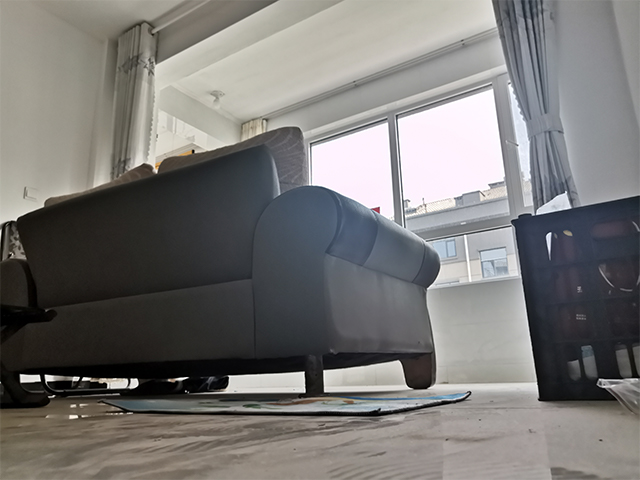carpet: (96, 389, 475, 419)
curtain: (491, 1, 585, 211), (114, 16, 156, 177)
sofa: (1, 124, 443, 397)
stool: (1, 303, 60, 412)
